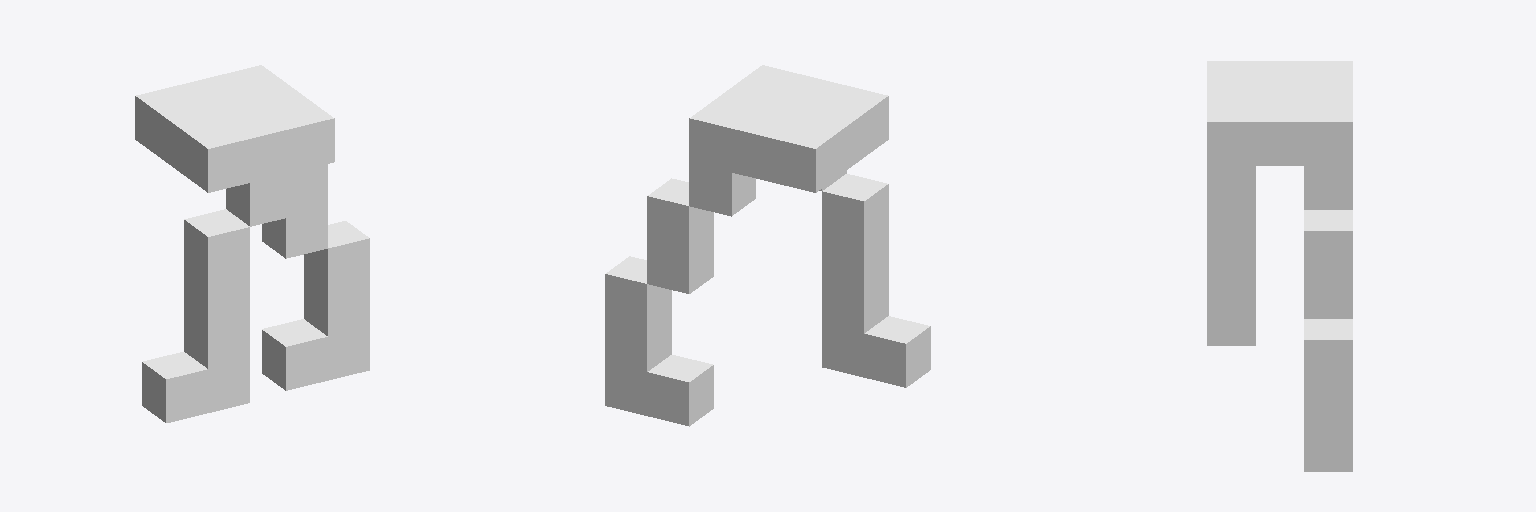
Rendered from human-4-torso_walk.obj.
The picture shows the model from 3 angles: view 1: azimuth 30°, elevation 25°; view 2: azimuth 150°, elevation 25°; view 3: azimuth 270°, elevation 25°; orthographic projection.
Parts seen in each view (by area): view 1: torso_walk; view 2: torso_walk; view 3: torso_walk.
Part boxes in pixels (bbox=[...]): torso_walk: bbox=[135, 65, 369, 422]; torso_walk: bbox=[605, 65, 930, 426]; torso_walk: bbox=[1207, 61, 1352, 471].
Bounding box in the file's own units: 0.6 × 0.7 × 0.3.